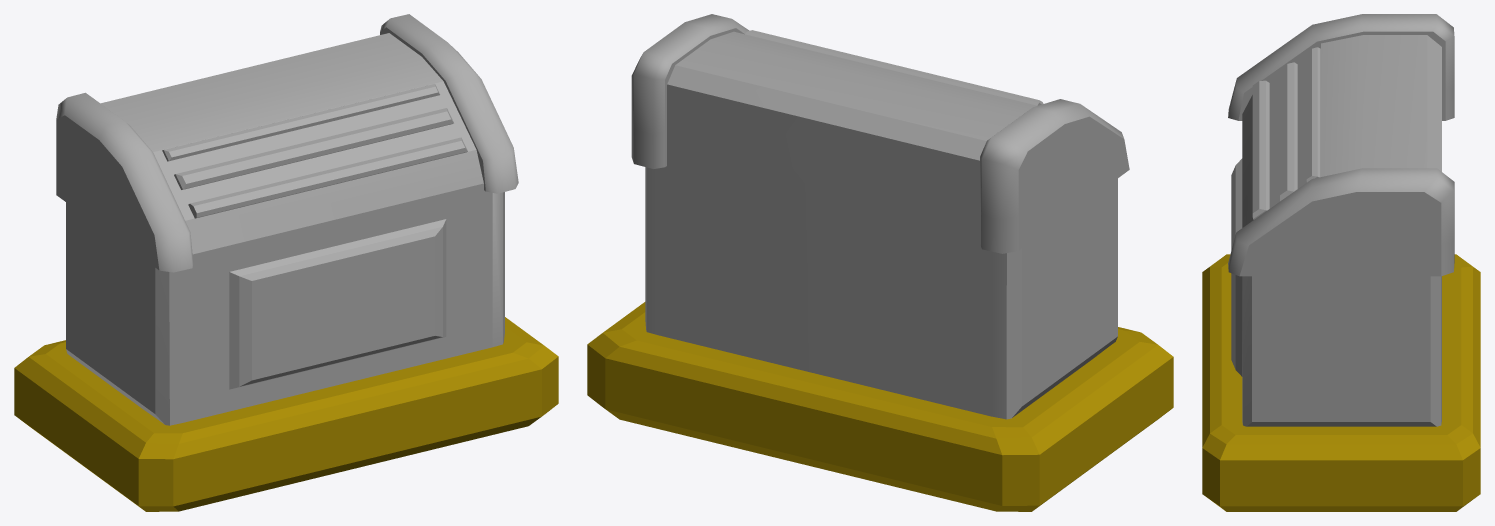
Rendered from Heater.fbx.
3 renders of one model, left to right at view 1: azimuth 30°, elevation 25°; view 2: azimuth 150°, elevation 25°; view 3: azimuth 270°, elevation 25°, orthographic. The views are drawn at different scales.
Visible parts, largest first — view 1: Heater; view 2: Heater; view 3: Heater.
Boxes of the visible parts, x1=… form: Heater: x1=14, y1=14, x2=558, y2=511; Heater: x1=587, y1=14, x2=1173, y2=511; Heater: x1=1202, y1=14, x2=1480, y2=511.
Size of the model in its own units: 352 by 266 by 207.
